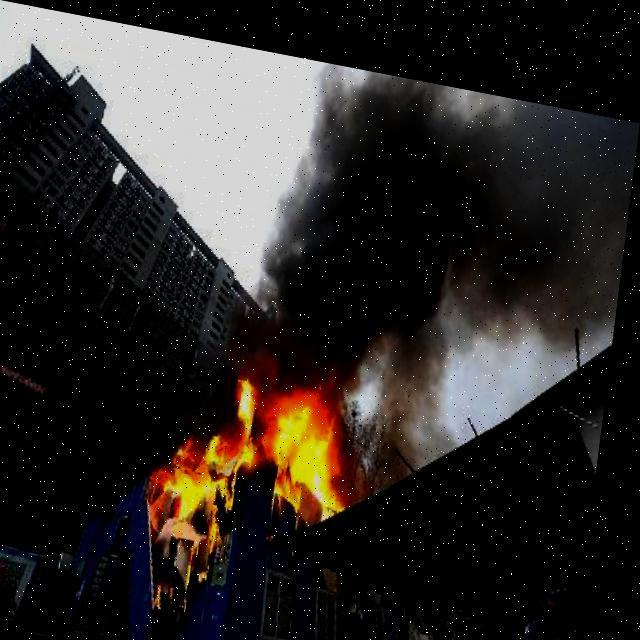Fire: (144, 346, 374, 616)
